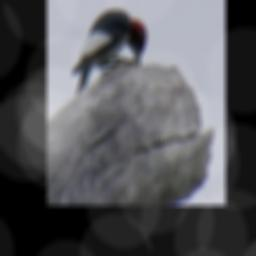Woodpecker: (69, 6, 150, 98)
